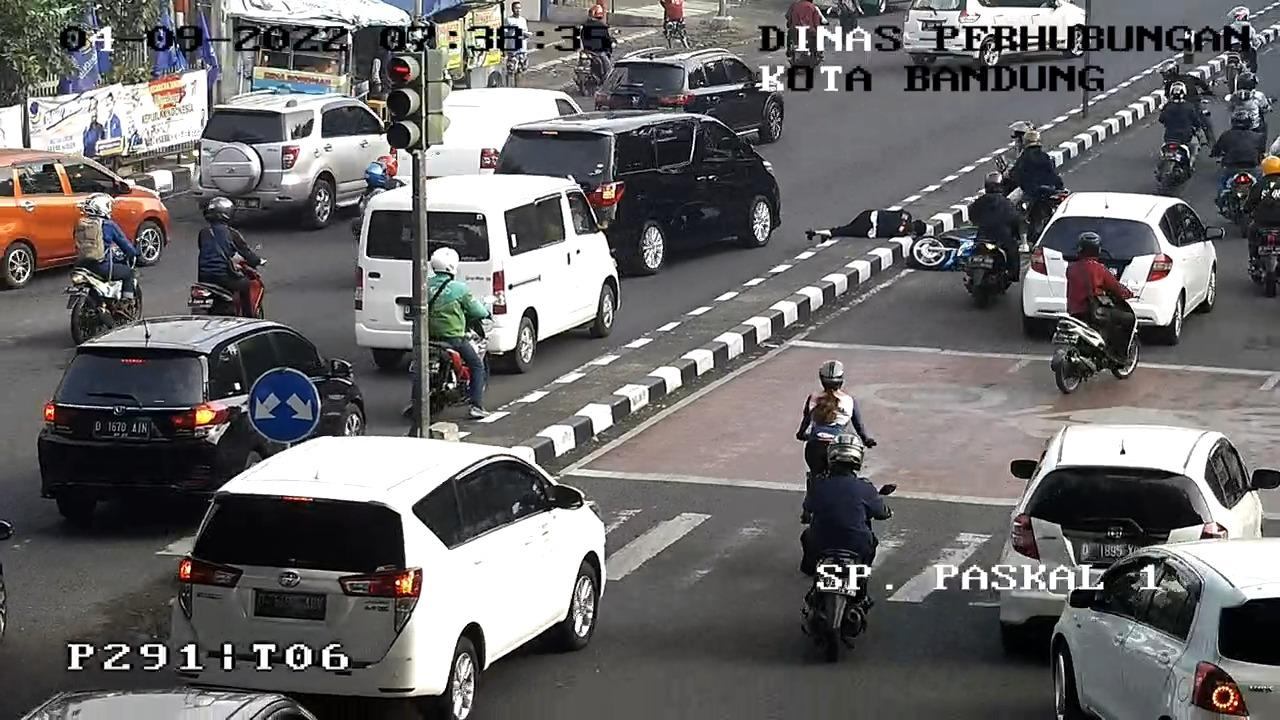accident: (793, 196, 931, 250)
